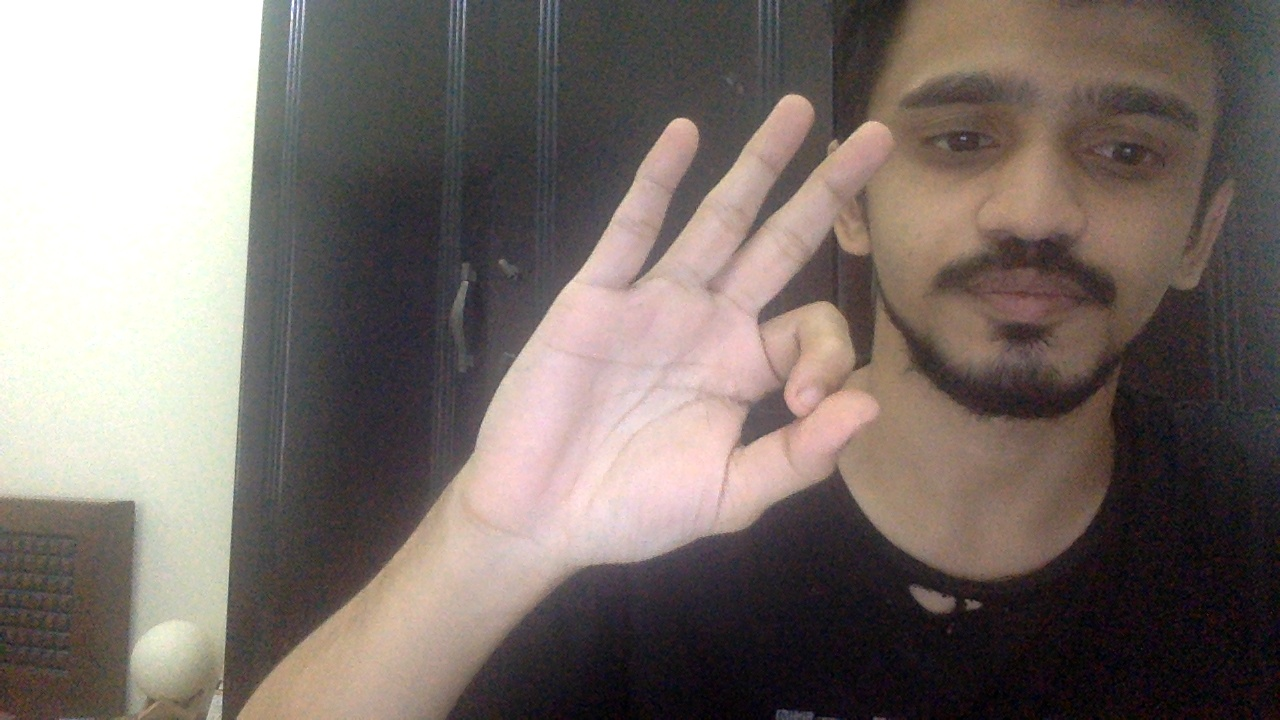perfect: (463, 91, 885, 571)
